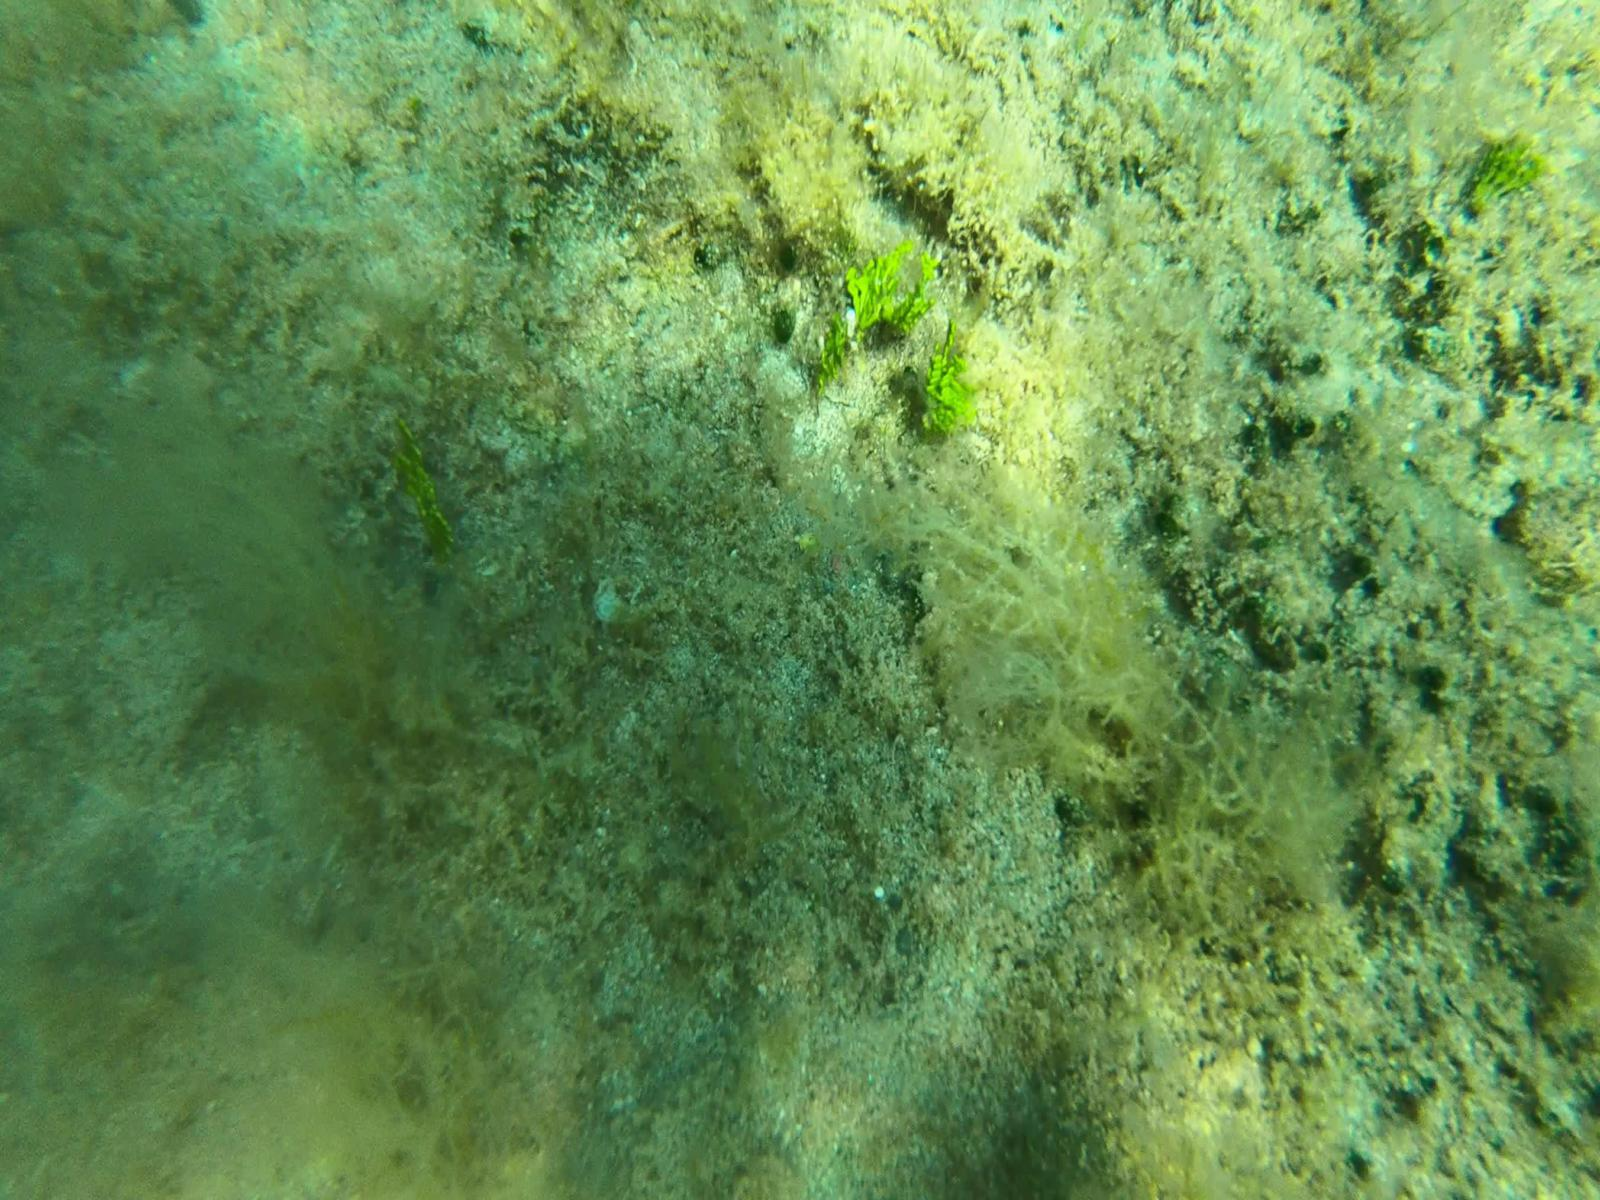halimeda: (847, 239, 946, 339), (391, 418, 454, 552), (918, 324, 983, 437), (1477, 125, 1546, 213), (813, 324, 855, 391)
